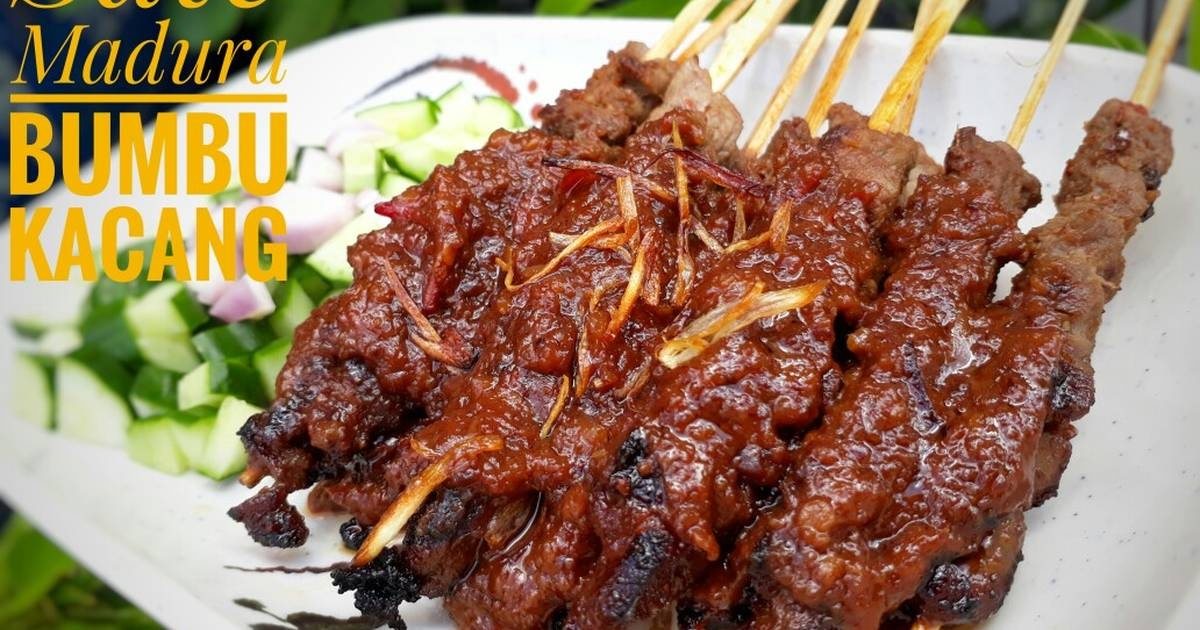sate_madura: (257, 1, 1200, 630)
